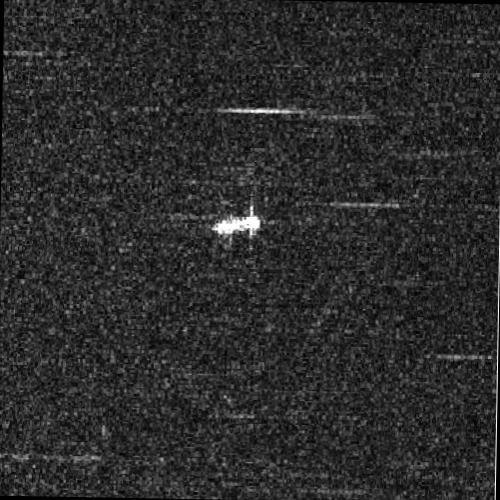ship: (211, 215, 261, 236)
